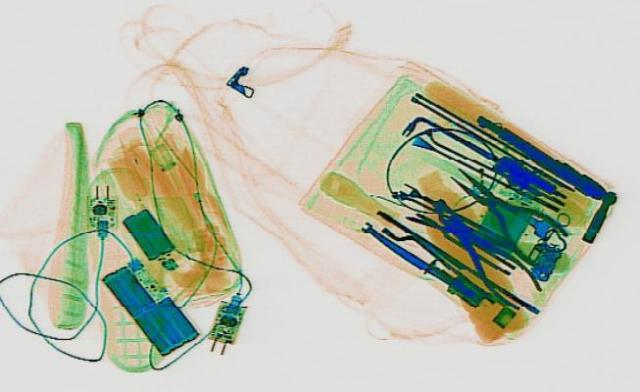Pliers: (420, 158, 584, 264), (420, 204, 548, 303)
